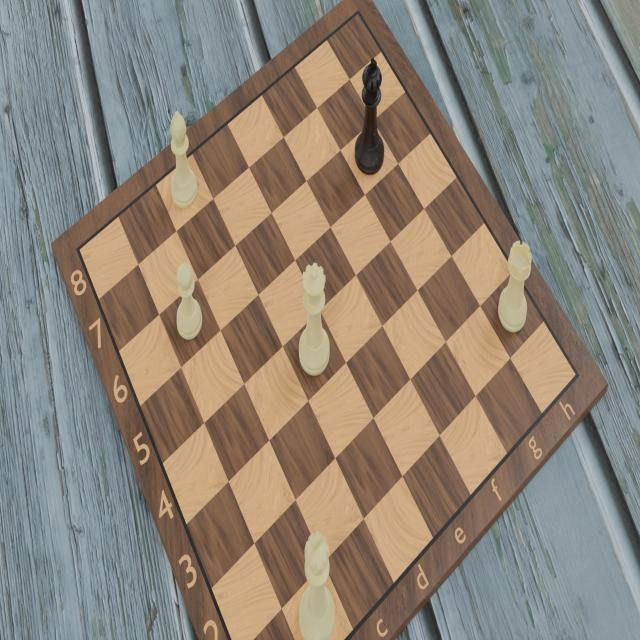white-bishop: (169, 109, 199, 211)
white-king: (297, 528, 337, 640)
white-pawn: (174, 260, 204, 343)
white-queen: (297, 260, 330, 379)
white-rook: (354, 55, 385, 176), (497, 238, 532, 334)
